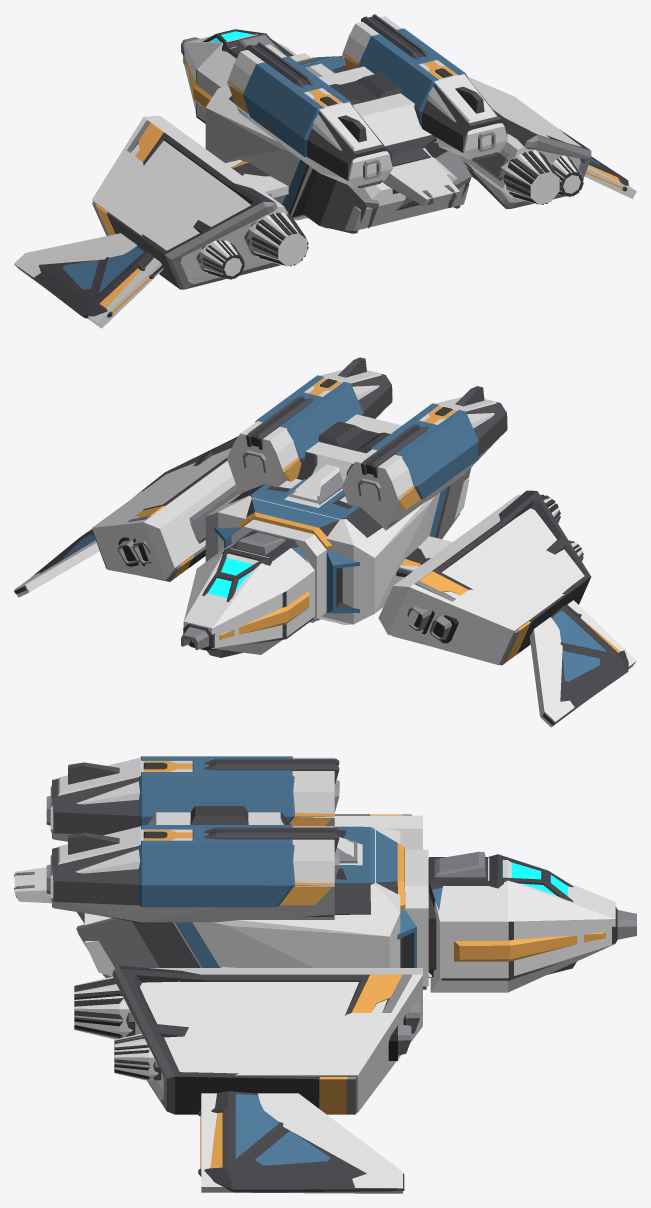
File: SM_Ship_Fighter_Heavy_02.fbx
3 renders of one model, top to bottom at view 1: azimuth 30°, elevation 25°; view 2: azimuth 150°, elevation 25°; view 3: azimuth 270°, elevation 25°, orthographic. The views are drawn at different scales.
Visible parts, largest first — view 1: SM_Ship_Fighter_Heavy_02_ConvexHulls, SM_Ship_Fighter_Heavy_02_LOD0; view 2: SM_Ship_Fighter_Heavy_02_ConvexHulls, SM_Ship_Fighter_Heavy_02_LOD0; view 3: SM_Ship_Fighter_Heavy_02_LOD0, SM_Ship_Fighter_Heavy_02_ConvexHulls.
Boxes of the visible parts, x1=… form: SM_Ship_Fighter_Heavy_02_ConvexHulls: x1=14, y1=16, x2=636, y2=328; SM_Ship_Fighter_Heavy_02_LOD0: x1=14, y1=14, x2=628, y2=318; SM_Ship_Fighter_Heavy_02_ConvexHulls: x1=14, y1=370, x2=636, y2=727; SM_Ship_Fighter_Heavy_02_LOD0: x1=14, y1=357, x2=628, y2=724; SM_Ship_Fighter_Heavy_02_LOD0: x1=14, y1=756, x2=636, y2=1192; SM_Ship_Fighter_Heavy_02_ConvexHulls: x1=14, y1=757, x2=615, y2=1193.
Size of the model in its own units: 1335 by 1664 by 564.
1 material, 1 textured.
